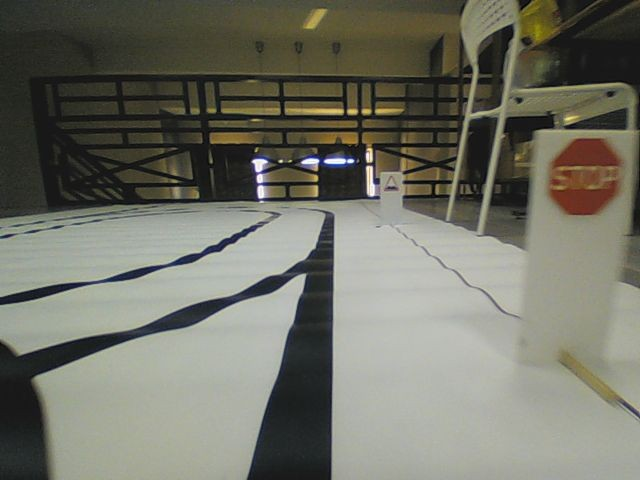Nerov: (383, 174, 399, 192)
Stop: (547, 135, 622, 218)
